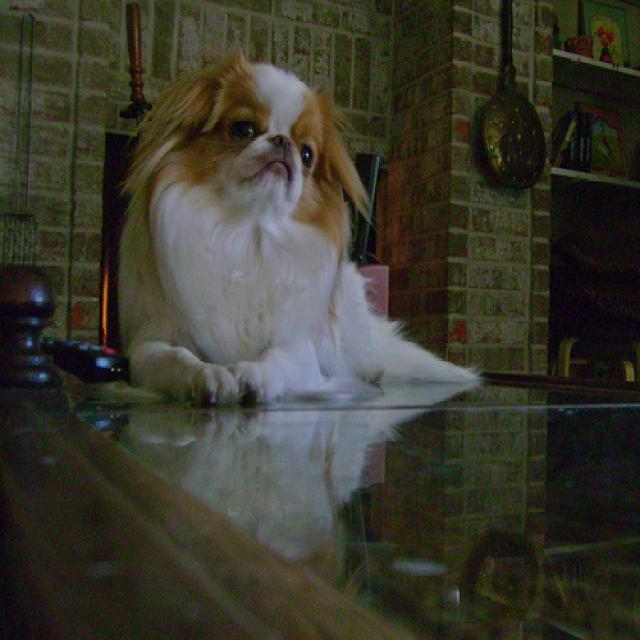dog-japanese_chin: (101, 38, 490, 423)
